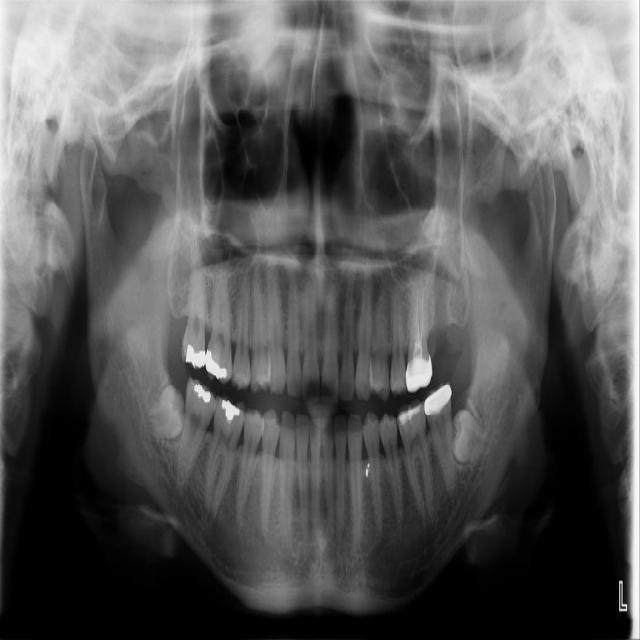52: (209, 396, 249, 442), (184, 375, 217, 426), (201, 340, 238, 385), (179, 326, 209, 370), (421, 380, 454, 420), (402, 355, 435, 394), (397, 400, 425, 443)
73: (407, 282, 435, 364), (612, 586, 616, 592)
BioHorizons Implant: (405, 282, 434, 394)
Biomet 3i Implant: (433, 406, 501, 476)
Blue Sky Bio Implant: (422, 381, 458, 499), (181, 251, 209, 369)
Implant: (173, 377, 221, 495)
Keystone Dental Implant: (134, 382, 201, 452)
